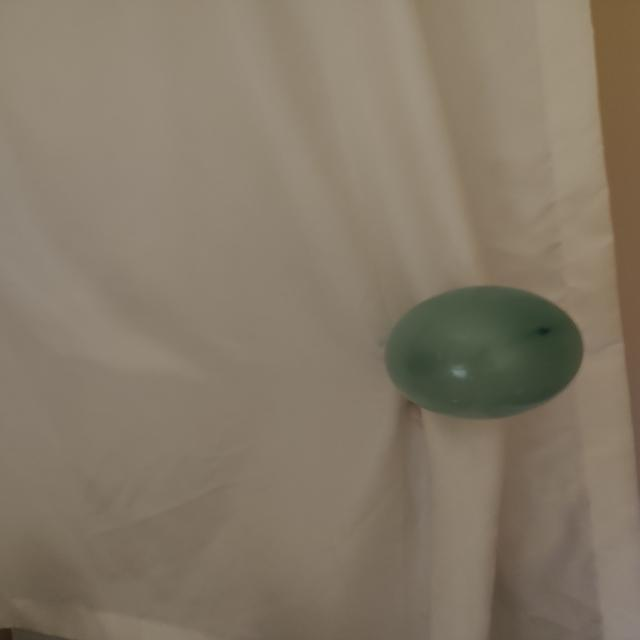balloon: (385, 286, 583, 419)
